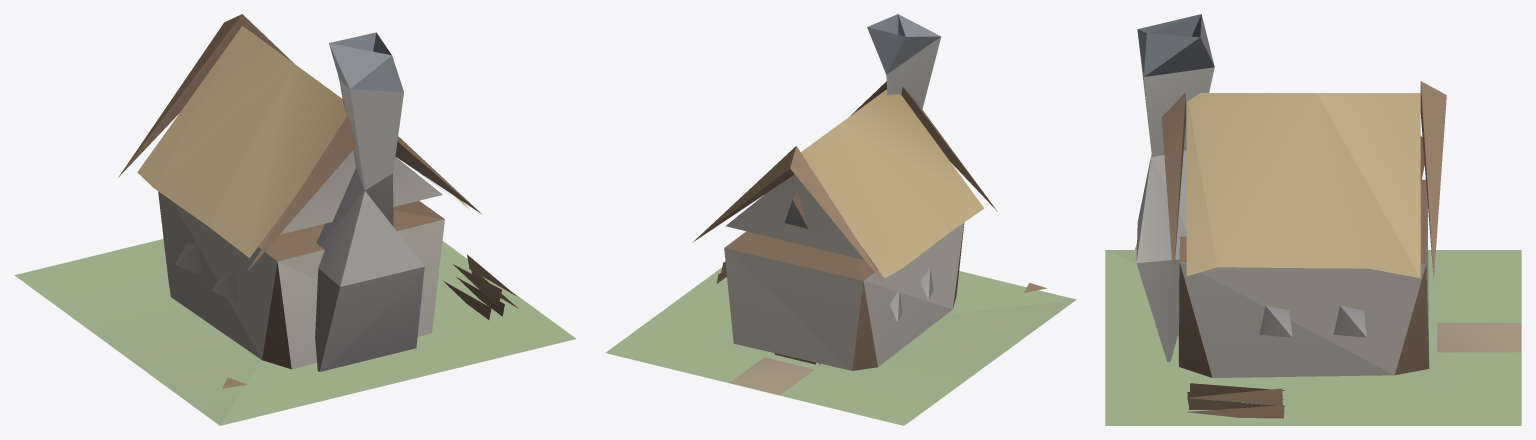
Rendered from house_settlers.v0.lite.glb.
The picture shows the model from 3 angles, left to right: view 1: azimuth 30°, elevation 25°; view 2: azimuth 150°, elevation 25°; view 3: azimuth 270°, elevation 25°; orthographic projection. The views are drawn at different scales.
Parts seen in each view (by area): view 1: house_settlers; view 2: house_settlers; view 3: house_settlers.
Boxes of the visible parts, box(x1,y1,x2,y2) form: house_settlers: box(14, 14, 576, 425); house_settlers: box(605, 14, 1076, 425); house_settlers: box(1105, 14, 1521, 425).
Size of the model in its own units: 2.96 by 2.5 by 2.96.
